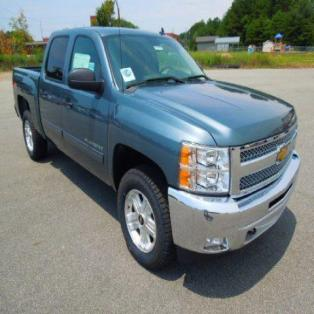Auto: (9, 24, 304, 272)
